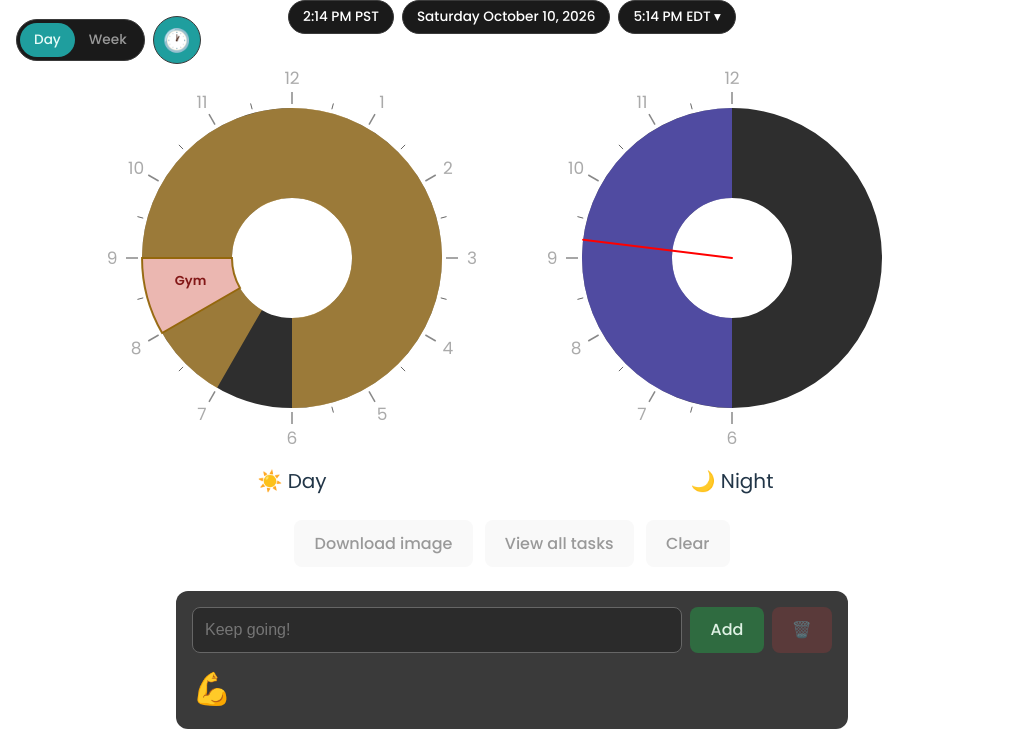
Test case: DayPlanner › the Clear button opens a confirmation dialog, and confirming removes all segments
Check: the button "Gym" is shown, box 142,258 -> 240,333
Step 1. Click the button "Clear" → (688, 544), box 646,520 -> 730,567
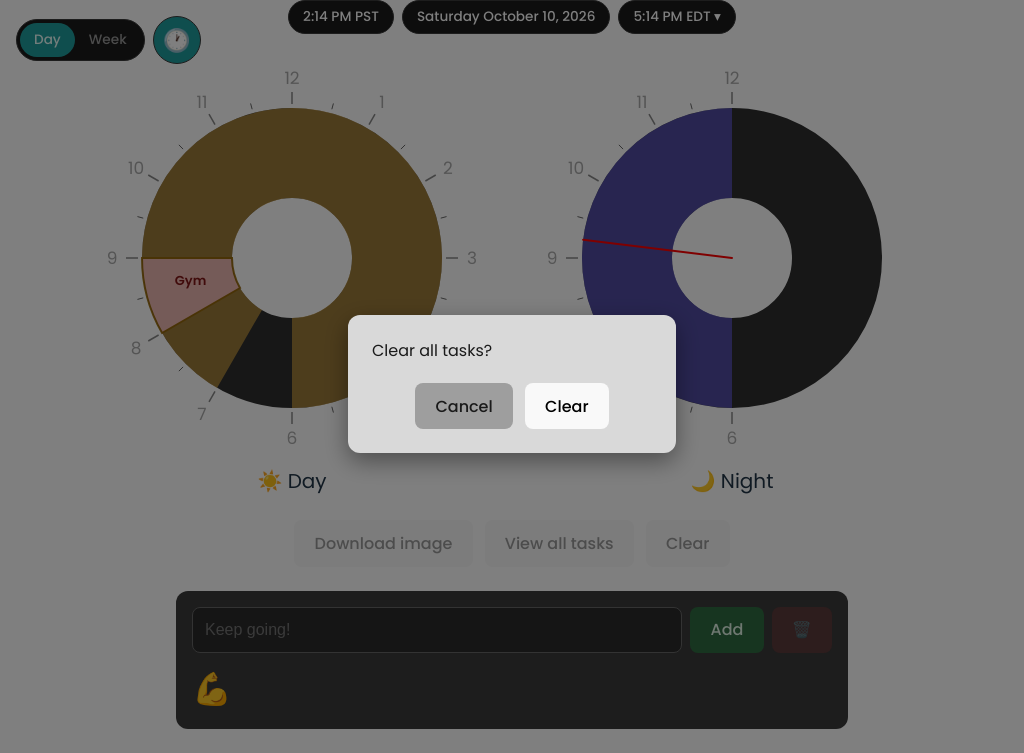
Check: the dialog "Clear all tasks?" is shown, box 348,315 -> 676,453
Step 2. Click the button "Clear" → (567, 406), box 525,383 -> 609,429
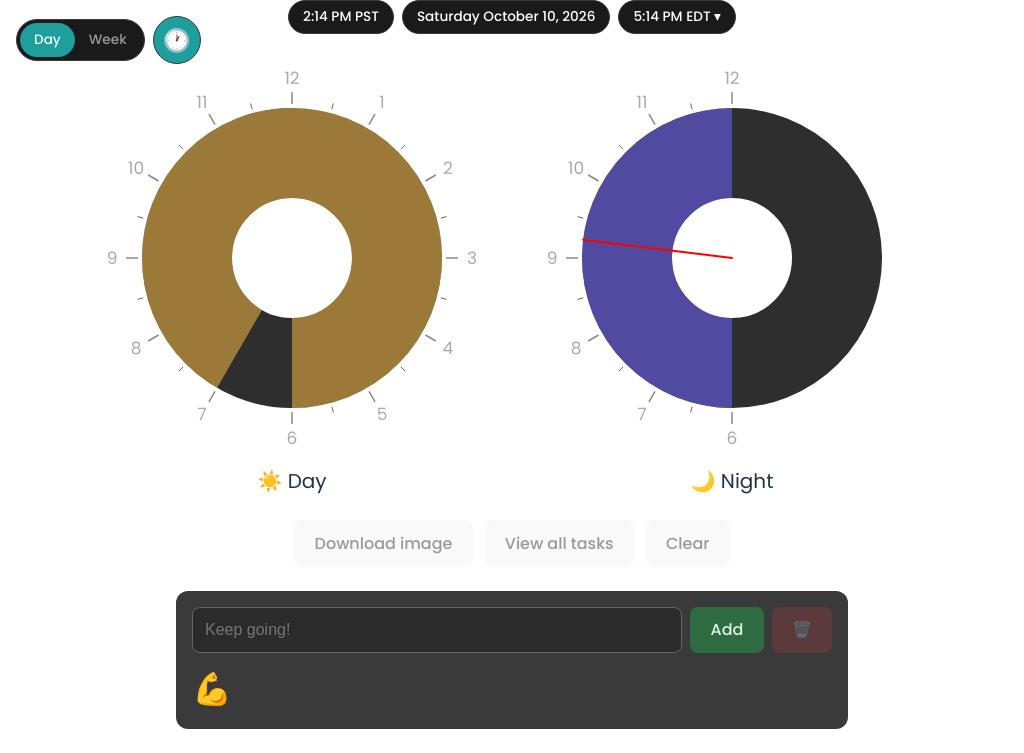
Check: the text "Clear all tasks?" is gone
Check: the icon "Gym" is gone
